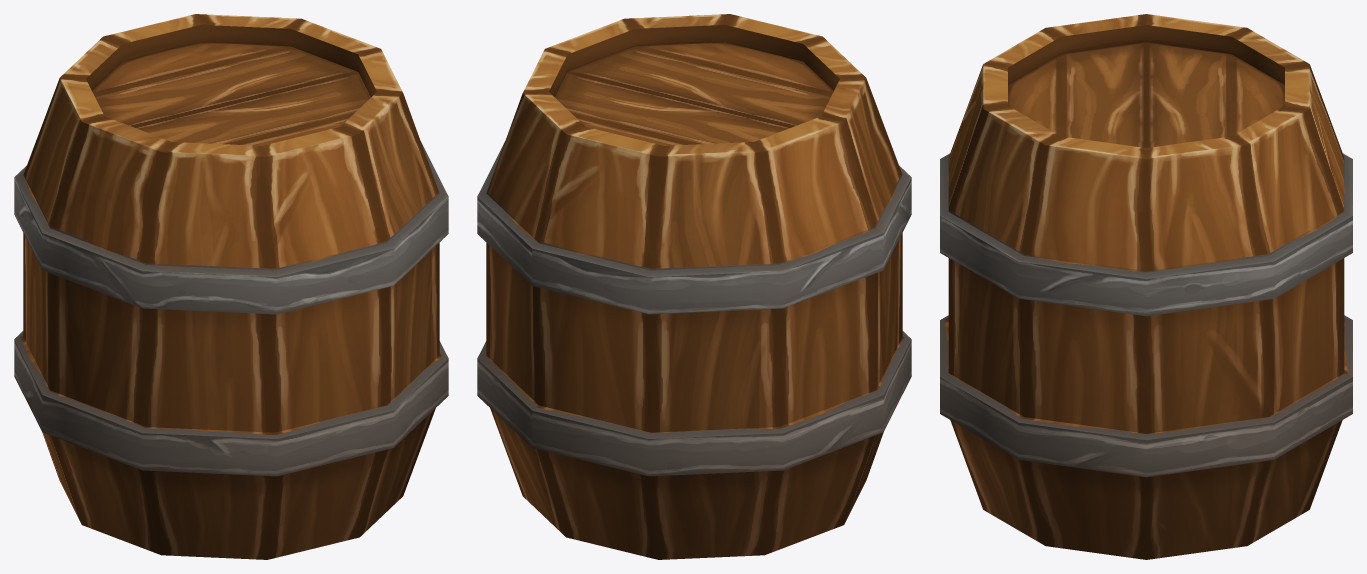
Rendered from Barrel.FBX.
3 renders of one model, left to right at view 1: azimuth 30°, elevation 25°; view 2: azimuth 150°, elevation 25°; view 3: azimuth 270°, elevation 25°, orthographic.
Visible parts, largest first — view 1: Barrel; view 2: Barrel; view 3: Barrel.
Boxes of the visible parts, bbox=[...] form: Barrel: bbox=[14, 14, 448, 559]; Barrel: bbox=[477, 14, 911, 559]; Barrel: bbox=[940, 14, 1352, 559].
Size of what is drawn, in the model's own units: 138 by 131 by 141.
